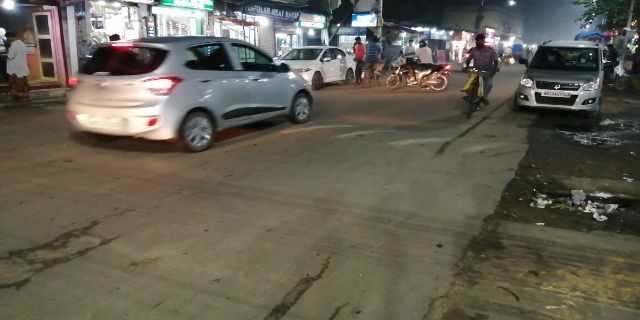Car: (69, 34, 313, 152), (513, 31, 606, 121)
Cycle: (455, 25, 499, 132)
